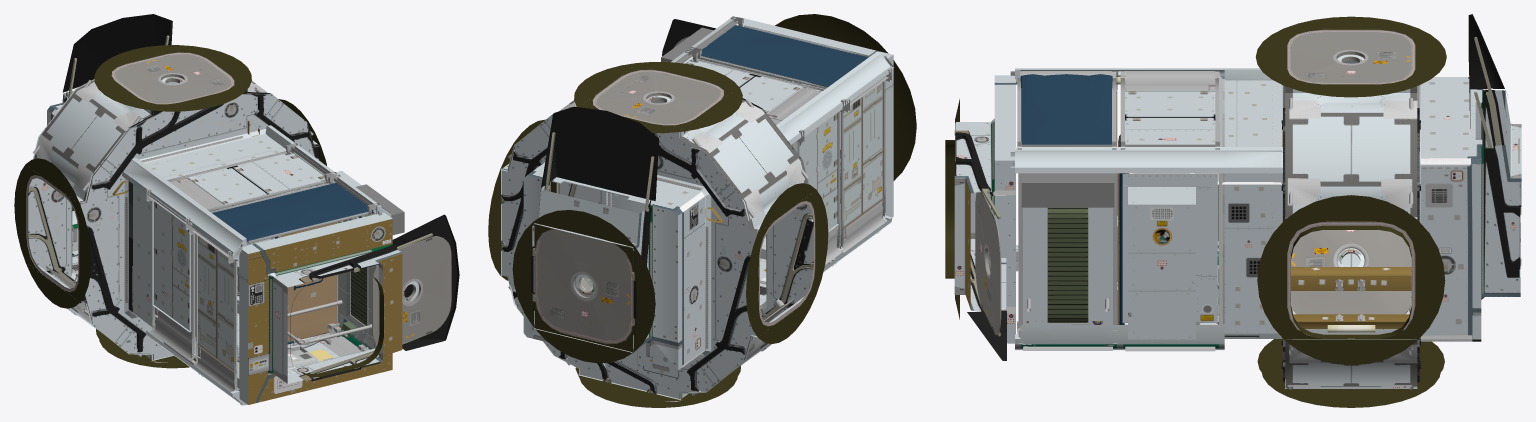
3 views of the same model, side by side, from view 1: azimuth 30°, elevation 25°; view 2: azimuth 150°, elevation 25°; view 3: azimuth 270°, elevation 25° (orthographic). The views are drawn at different scales.
Parts seen in each view (by area): view 1: Node3_Int _Bulkhead.SBD, Node3_Int_Hub.SBD, Node3_Int_Metals, Node3_Int_Rack.FWD, Node3_Int_Rack.MID, Node3_Int_Rack_WHC, Node3_Int_Hub.NDR, Node3_Int_Rack.NDR, Node3_Int_Metal_Hatch_Stbd, Node3_Int _Bulkhead.PRT, Node3_Int_Metal_Hatch_Zenith_Closed, Node3_Int_Rack.COLBERT (+3 smaller); view 2: Node3_Int_Metals, Node3_Int _Bulkhead.PRT, Node3_Int_Hub.PRT, Node3_Int_Rack.FWD, Node3_Int_Metal_Hatch_Port_Closed, Node3_Int_Hub.NDR, Node3_Int_Rack_WHC, Node3_Int_Hub.SBD, Node3_Int_Metal_Hatch_Zenith_Closed, Node3_Int_Rack.MID, Node3_Int_Rack.NDR, Node3_Int _Bulkhead.SBD (+2 smaller); view 3: Node3_Int_Rack.MID, Node3_Int_Metals, Node3_Int _Bulkhead.PRT, Node3_Int_Hub.AFT, Node3_Int _Bulkhead.SBD, Node3_Int_Rack.COLBERT, Node3_Int_Rack_WHC, Node3_Int_Rack.NDR, Node3_Int_Hub.ZNH, Node3_Int_Metal_Hatch_Aft, Node3_Int_Metal_Hatch_Zenith_Closed, Node3_Int_Metal_Hatch_Stbd (+4 smaller).
Part boxes in pixels (<box>): Node3_Int _Bulkhead.SBD: <box>239,212,459,404</box>; Node3_Int_Hub.SBD: <box>80,89,319,360</box>; Node3_Int_Metals: <box>14,35,432,405</box>; Node3_Int_Rack.FWD: <box>152,200,237,391</box>; Node3_Int_Rack.MID: <box>122,125,391,405</box>; Node3_Int_Rack_WHC: <box>212,183,373,341</box>; Node3_Int_Hub.NDR: <box>34,80,259,204</box>; Node3_Int_Rack.NDR: <box>148,150,382,255</box>; Node3_Int_Metal_Hatch_Stbd: <box>372,236,451,344</box>; Node3_Int _Bulkhead.PRT: <box>47,14,214,275</box>; Node3_Int_Metal_Hatch_Zenith_Closed: <box>115,54,231,103</box>; Node3_Int_Rack.COLBERT: <box>287,184,404,351</box>; Node3_Int_Metals: <box>488,14,916,407</box>; Node3_Int _Bulkhead.PRT: <box>523,106,704,373</box>; Node3_Int_Hub.PRT: <box>501,114,757,399</box>; Node3_Int_Rack.FWD: <box>792,81,885,264</box>; Node3_Int_Metal_Hatch_Port_Closed: <box>538,229,630,340</box>; Node3_Int_Hub.NDR: <box>679,99,807,232</box>; Node3_Int_Rack_WHC: <box>611,25,868,213</box>; Node3_Int_Hub.SBD: <box>559,98,815,351</box>; Node3_Int_Metal_Hatch_Zenith_Closed: <box>596,71,723,124</box>; Node3_Int_Rack.MID: <box>671,17,892,304</box>; Node3_Int_Rack.NDR: <box>683,23,894,134</box>; Node3_Int _Bulkhead.SBD: <box>662,17,893,220</box>; Node3_Int_Rack.MID: <box>1015,68,1282,350</box>; Node3_Int_Metals: <box>945,16,1521,407</box>; Node3_Int _Bulkhead.PRT: <box>1421,14,1521,341</box>; Node3_Int_Hub.AFT: <box>1285,86,1417,328</box>; Node3_Int _Bulkhead.SBD: <box>954,75,1015,360</box>; Node3_Int_Rack.COLBERT: <box>1018,173,1117,343</box>; Node3_Int_Rack_WHC: <box>1020,74,1281,324</box>; Node3_Int_Rack.NDR: <box>1010,71,1224,167</box>; Node3_Int_Hub.ZNH: <box>1285,267,1417,388</box>; Node3_Int_Metal_Hatch_Aft: <box>1291,230,1411,314</box>; Node3_Int_Metal_Hatch_Zenith_Closed: <box>1290,31,1411,82</box>; Node3_Int_Metal_Hatch_Stbd: <box>975,191,1001,334</box>.
Size of the model in its own units: 3883 by 3992 by 6094.
